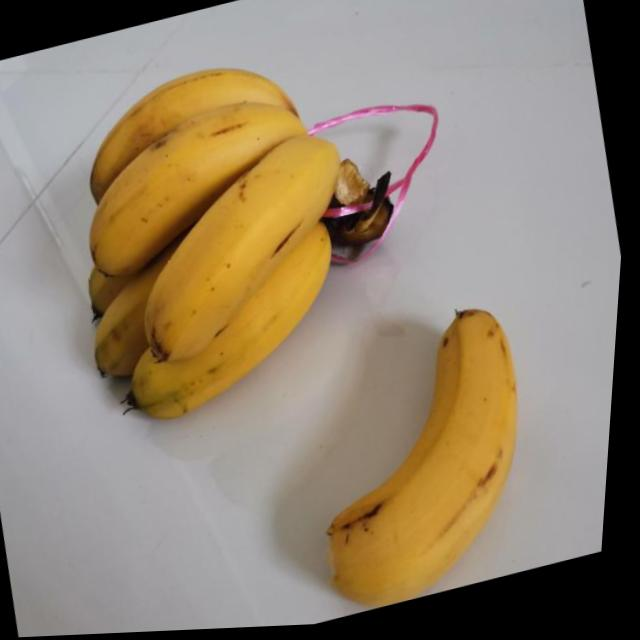Banana: (33, 27, 441, 447), (280, 294, 571, 625)
